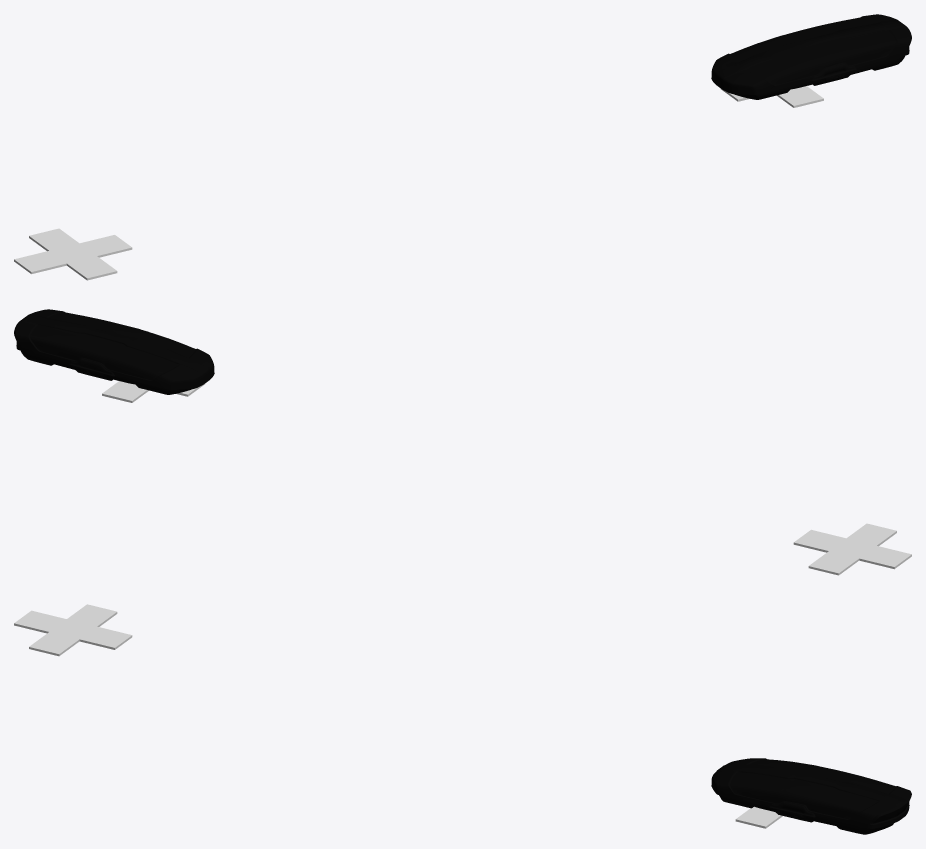
The model's file is Thule Motion XT Alpine 629500-Low_v24.glb.
3 renders of one model, top to bottom at view 1: azimuth 30°, elevation 25°; view 2: azimuth 150°, elevation 25°; view 3: azimuth 330°, elevation 25°, orthographic.
Parts seen in each view (by area): view 1: Thule_motion_XT_Alpine_low, Box016, Box017, Box014; view 2: Thule_motion_XT_Alpine_low, Box016, Box017, Box014; view 3: Thule_motion_XT_Alpine_low, Box016, Box017, Box014.
Boxes of the visible parts, x1,y1,x2,y2 form: Thule_motion_XT_Alpine_low: (711,14,911,99); Box016: (29,228,117,280); Box017: (14,235,132,274); Box014: (777,86,823,107); Thule_motion_XT_Alpine_low: (14,309,214,394); Box016: (808,523,896,575); Box017: (793,529,911,569); Box014: (102,381,148,402); Thule_motion_XT_Alpine_low: (711,758,911,834); Box016: (29,604,117,656); Box017: (14,610,132,649); Box014: (735,806,782,828).
Bounding box in the file's own units: 0.8732 × 0.0323 × 0.1.
2 materials, 2 textured.
